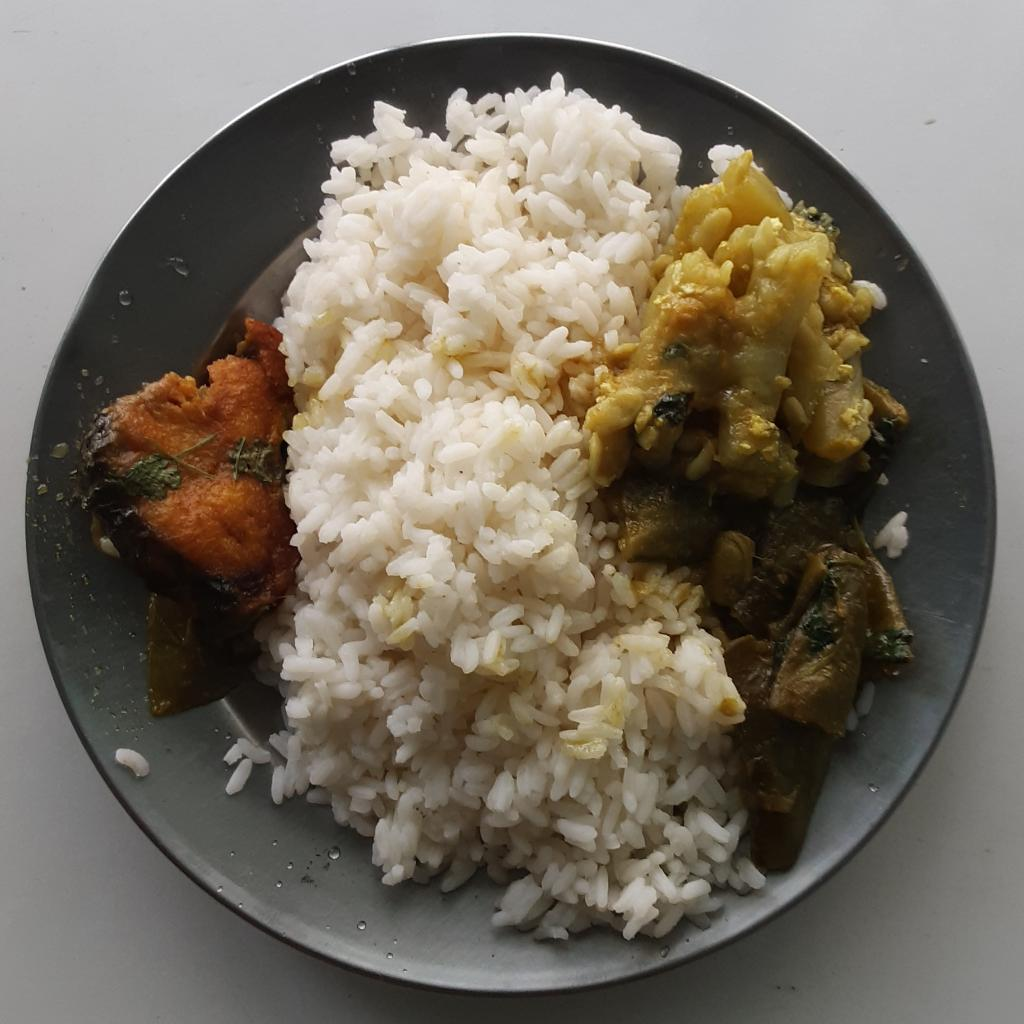fish: (77, 308, 295, 622)
lau: (587, 139, 879, 509)
rice: (218, 67, 769, 947)
shim: (617, 444, 918, 873), (149, 586, 262, 720)
